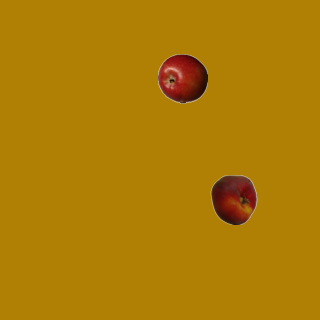Apple Braeburn: (157, 53, 207, 103)
Nectarine Flat: (208, 174, 258, 224)
